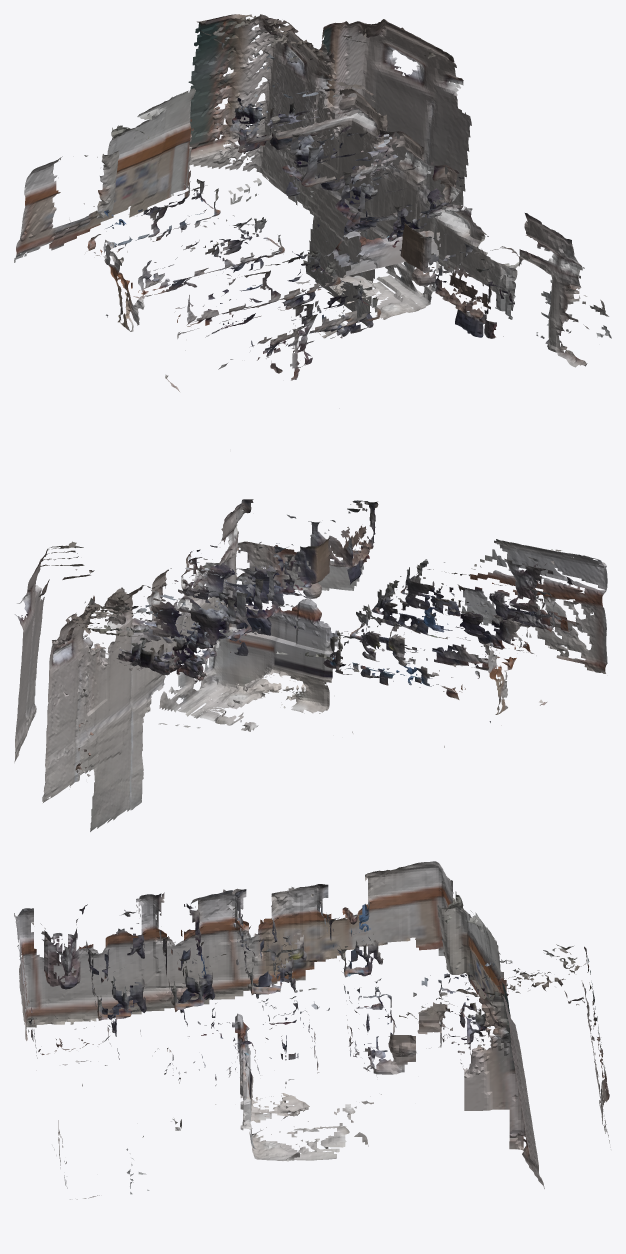
Rendered from tsdf_mesh_voxel_15mm.glb.
3 renders of one model, top to bottom at view 1: azimuth 30°, elevation 25°; view 2: azimuth 150°, elevation 25°; view 3: azimuth 270°, elevation 25°, orthographic. The views are drawn at different scales.
Parts seen in each view (by area): view 1: geometry_0; view 2: geometry_0; view 3: geometry_0.
Part boxes in pixels (x1,y1,x2,y2): geometry_0: [14, 14, 611, 391]; geometry_0: [14, 499, 607, 831]; geometry_0: [14, 861, 610, 1199].
Size of the model in its own units: 2.66 by 1.55 by 3.17.
